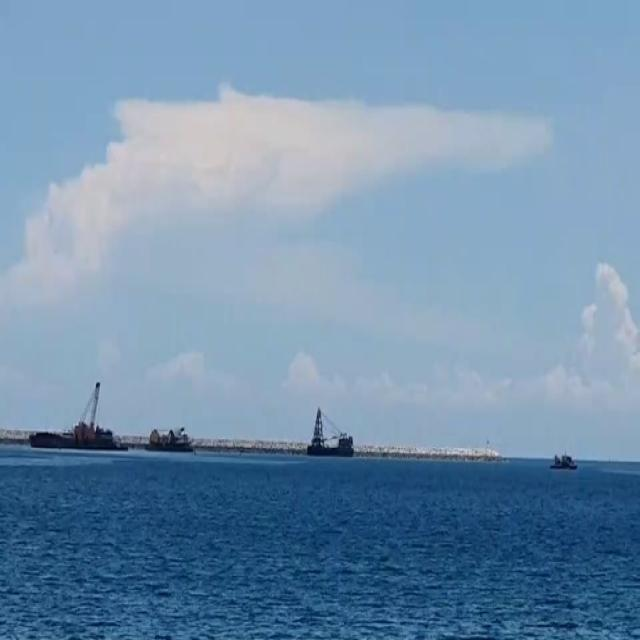civilianship: (22, 360, 134, 482), (146, 405, 213, 475), (301, 407, 367, 477), (541, 429, 593, 505)
